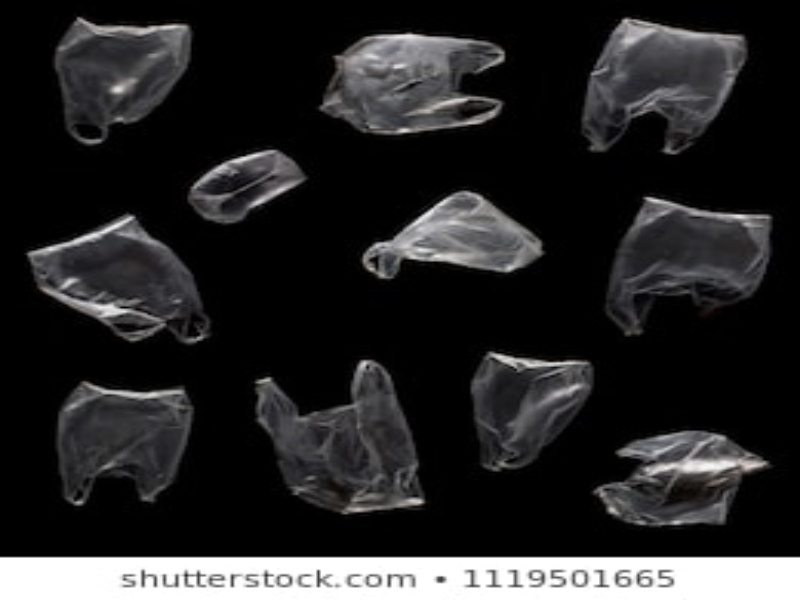plastic-bag: (241, 356, 434, 516), (15, 213, 218, 348), (580, 13, 751, 160), (603, 198, 774, 338), (319, 33, 515, 133), (595, 422, 778, 529), (48, 12, 196, 144), (362, 182, 547, 285), (53, 377, 195, 509), (465, 346, 600, 473), (186, 151, 306, 224)
